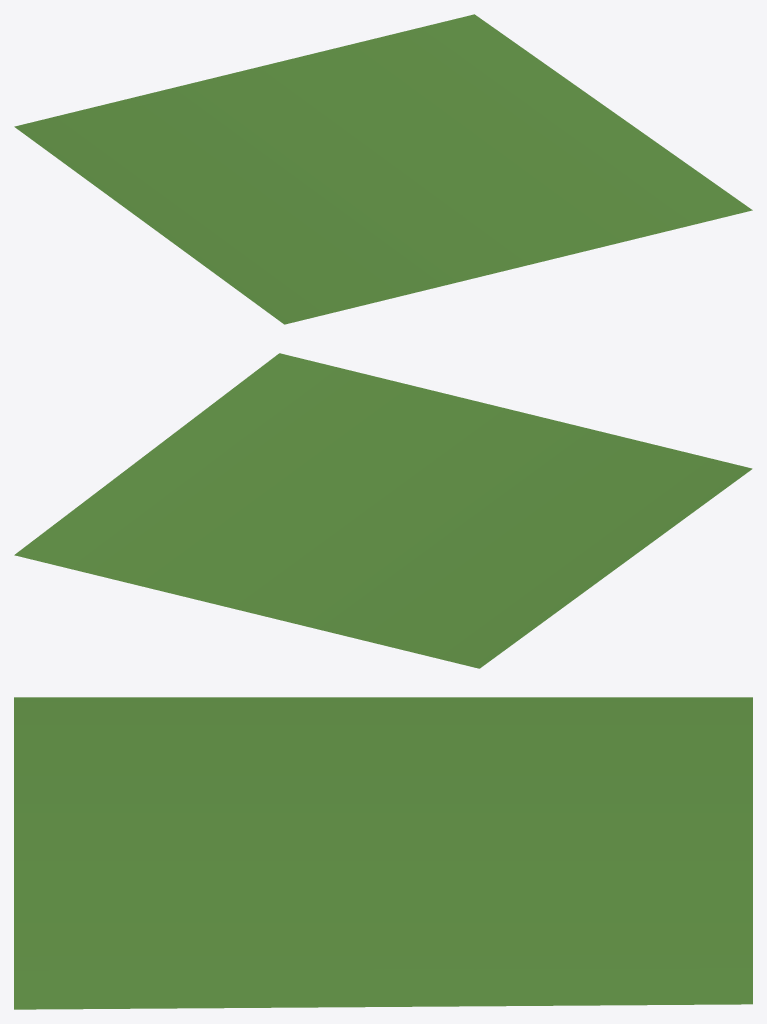
The model's file is terrain_16_16_4.glb.
3 renders of one model, top to bottom at view 1: azimuth 30°, elevation 25°; view 2: azimuth 150°, elevation 25°; view 3: azimuth 270°, elevation 25°, orthographic. The views are drawn at different scales.
Visible parts, largest first — view 1: m; view 2: m; view 3: m.
Part boxes in pixels (left/top/right/bottom): m: left=14, top=14, right=752, bottom=324; m: left=14, top=353, right=752, bottom=668; m: left=14, top=697, right=752, bottom=1009.
Size of the model in its own units: 8 by 0 by 8.
